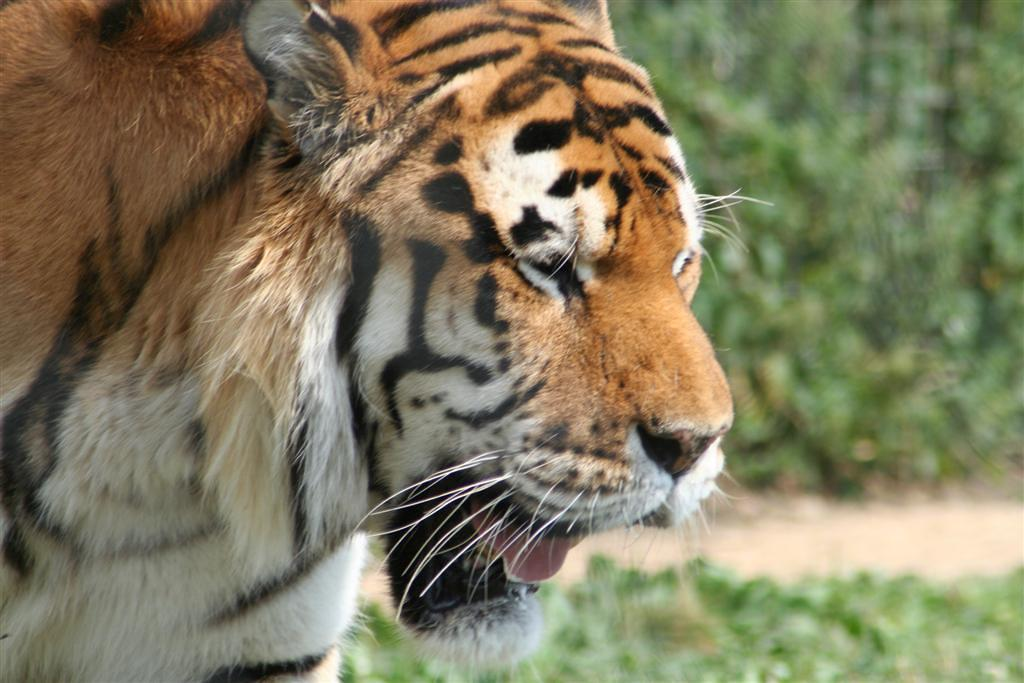tiger: (1, 1, 771, 682)
